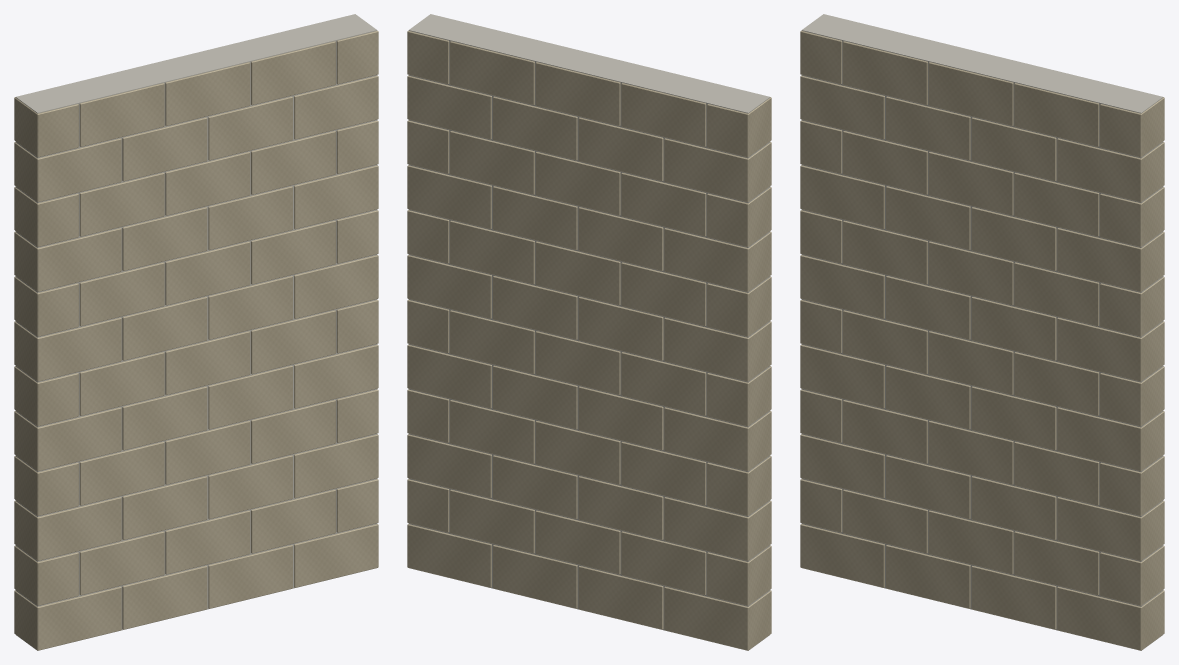
File: wall-2m.glb
3 renders of one model, left to right at view 1: azimuth 30°, elevation 25°; view 2: azimuth 150°, elevation 25°; view 3: azimuth 330°, elevation 25°, orthographic.
Parts seen in each view (by area): view 1: wall-2m; view 2: wall-2m; view 3: wall-2m.
Part boxes in pixels (x1=…): wall-2m: x1=14, y1=14, x2=378, y2=650; wall-2m: x1=407, y1=14, x2=771, y2=650; wall-2m: x1=800, y1=14, x2=1164, y2=650.
Bounding box in the file's own units: 1.99 × 3 × 0.24.
2 materials, 1 textured.
